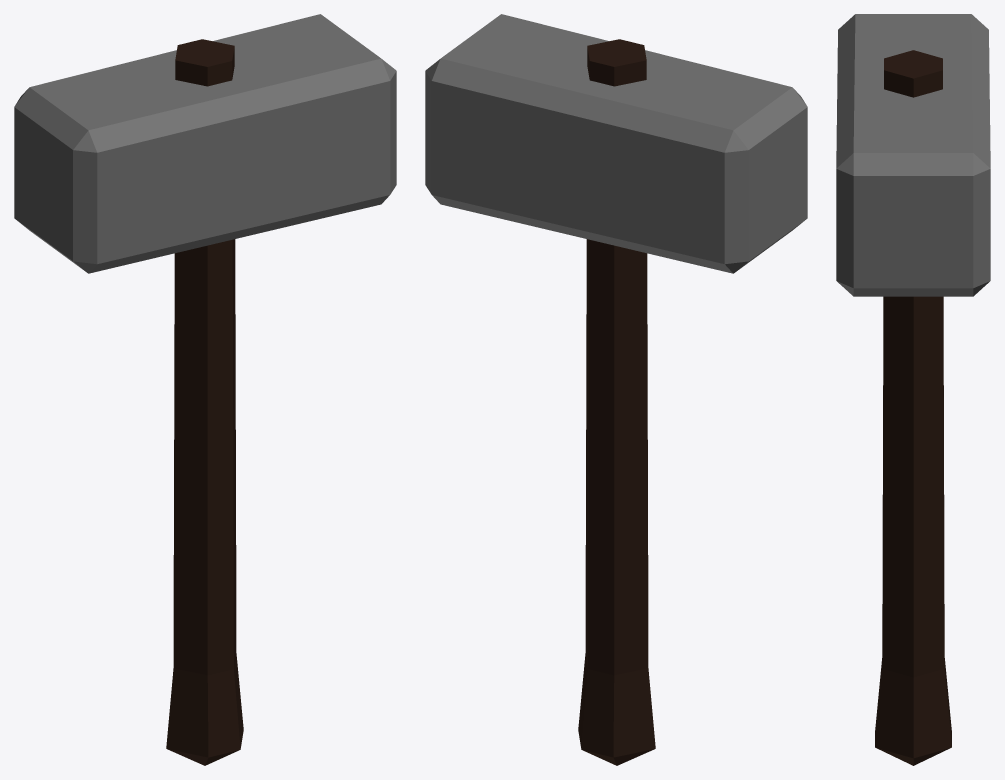
File: Blacksmith Hammer 01.FBX
The picture shows the model from 3 angles, left to right: view 1: azimuth 30°, elevation 25°; view 2: azimuth 150°, elevation 25°; view 3: azimuth 270°, elevation 25°; orthographic projection.
Parts seen in each view (by area): view 1: Blacksmith Hammer 01; view 2: Blacksmith Hammer 01; view 3: Blacksmith Hammer 01.
Part boxes in pixels (box(x1,y1,x2,y2)): Blacksmith Hammer 01: box(14, 14, 396, 765); Blacksmith Hammer 01: box(425, 14, 807, 765); Blacksmith Hammer 01: box(836, 14, 990, 765).
Size of the model in its own units: 29.26 by 61.79 by 12.33.
1 material, 1 textured.
